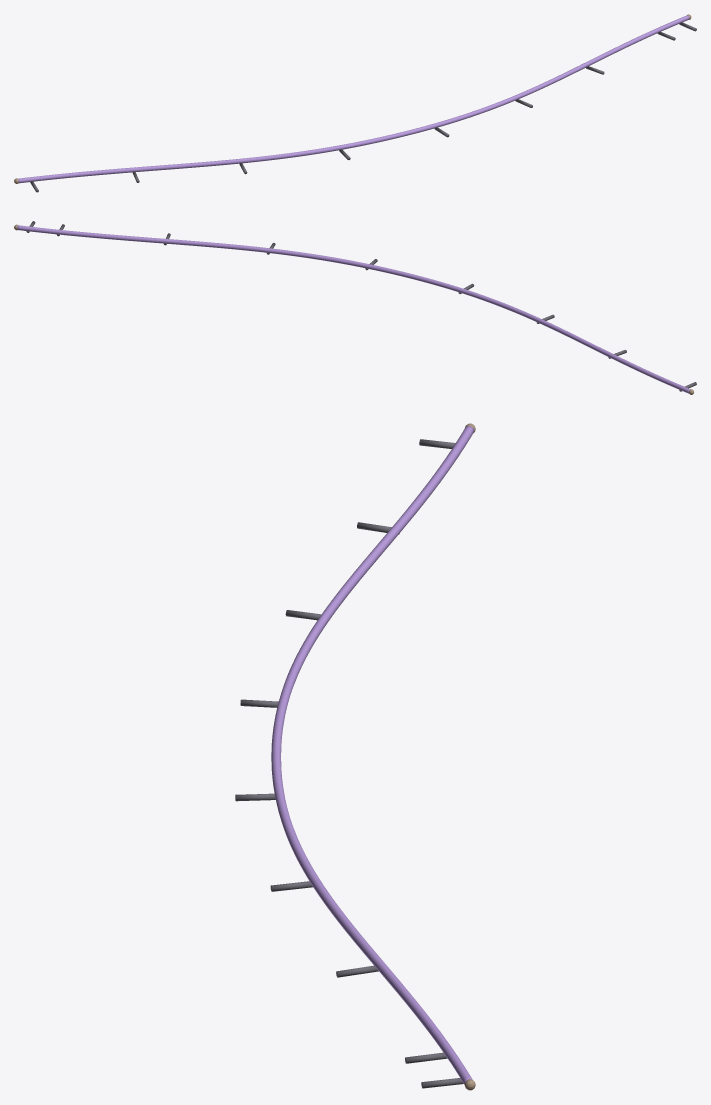
File: Rail_Bracket.glb
3 views of the same model, one above another, from view 1: azimuth 30°, elevation 25°; view 2: azimuth 150°, elevation 25°; view 3: azimuth 270°, elevation 25° (orthographic). The views are drawn at different scales.
Parts seen in each view (by area): view 1: Rail_Bracket_Rail; view 2: Rail_Bracket_Rail; view 3: Rail_Bracket_Rail.
Part boxes in pixels (bbox=[...]): Rail_Bracket_Rail: bbox=[18, 15, 696, 192]; Rail_Bracket_Rail: bbox=[17, 221, 696, 393]; Rail_Bracket_Rail: bbox=[235, 426, 474, 1088].
Bounding box in the file's own units: 16.11 × 0.1519 × 2.48.
2 materials, 1 textured.
